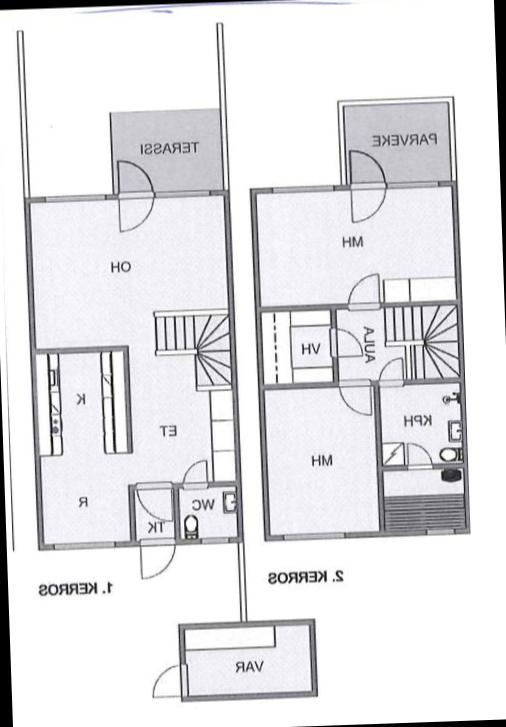door: (134, 532, 176, 582), (134, 476, 176, 523), (115, 192, 158, 234), (114, 156, 156, 198), (346, 184, 390, 222), (348, 146, 387, 188), (336, 378, 374, 418), (148, 662, 190, 698), (342, 271, 384, 306), (330, 323, 364, 362), (179, 456, 211, 490), (404, 436, 432, 471), (378, 352, 405, 386)
window: (39, 186, 113, 206), (48, 536, 120, 554), (264, 178, 340, 194), (277, 526, 354, 541), (422, 523, 459, 538)
